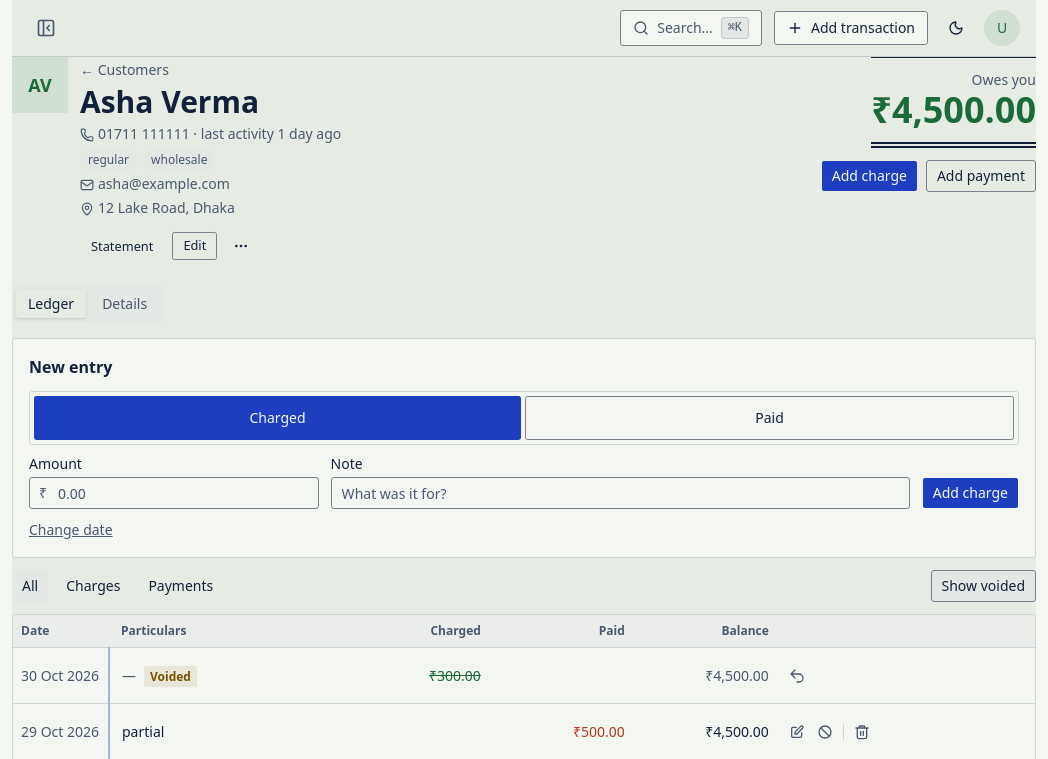
Test: S-31 customer detail v2 › ledger filters: All / Charges / Payments and Show voided (on by default)
The image size is (1048, 759).
expect the tab "Ledger" is shown: met, box top-left (16, 290), bottom-right (86, 318)
expect the text "₹300.00" is shown: met, box top-left (429, 666), bottom-right (481, 686)
Click the button "Charges".
click(93, 586)  # box top-left (56, 570), bottom-right (130, 602)
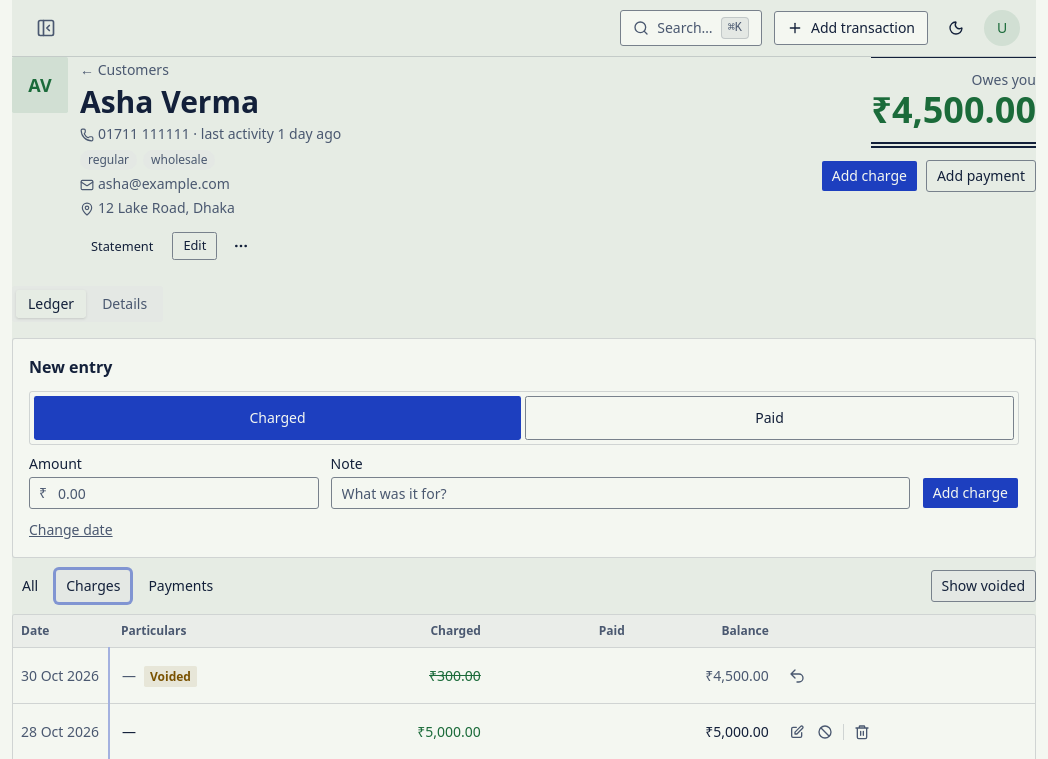
expect the text "₹300.00" is shown: met, box top-left (429, 666), bottom-right (481, 686)
expect the text "₹500.00" is gone: met
Note: Payments: just the payment.
Click the button "Payments".
click(181, 586)  # box top-left (138, 570), bottom-right (223, 602)
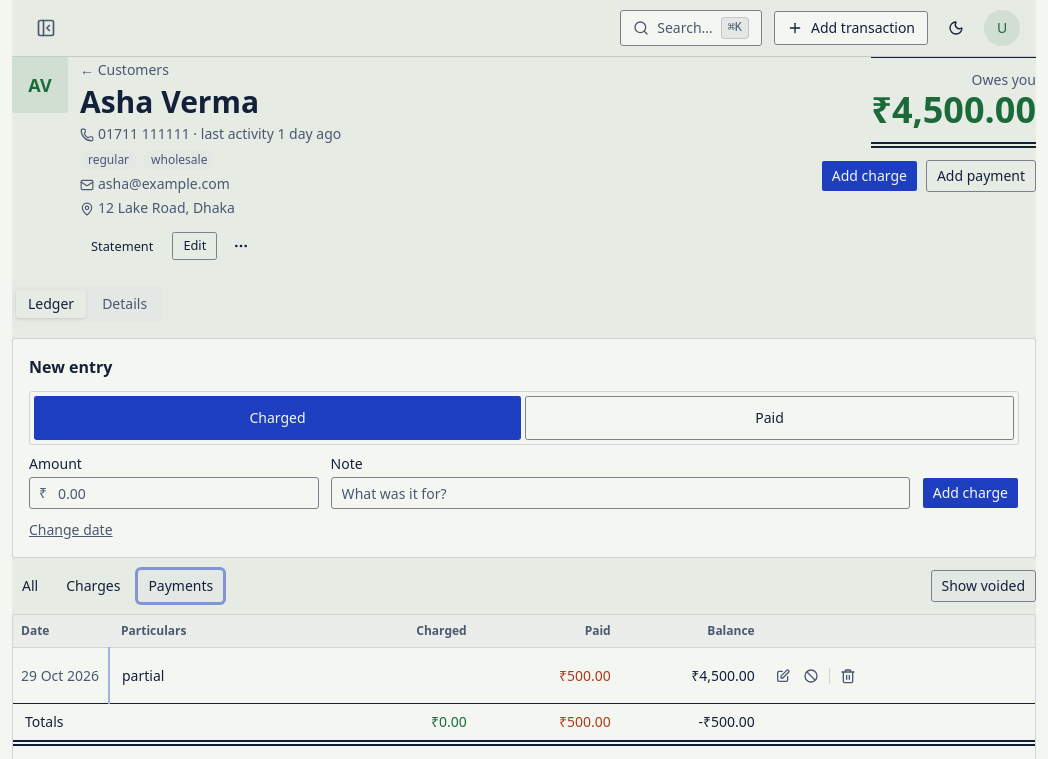
expect the text "₹5,000.00" is gone: met
Note: Back to All: everything again.
Click the button "All".
click(30, 586)  # box top-left (12, 570), bottom-right (48, 602)
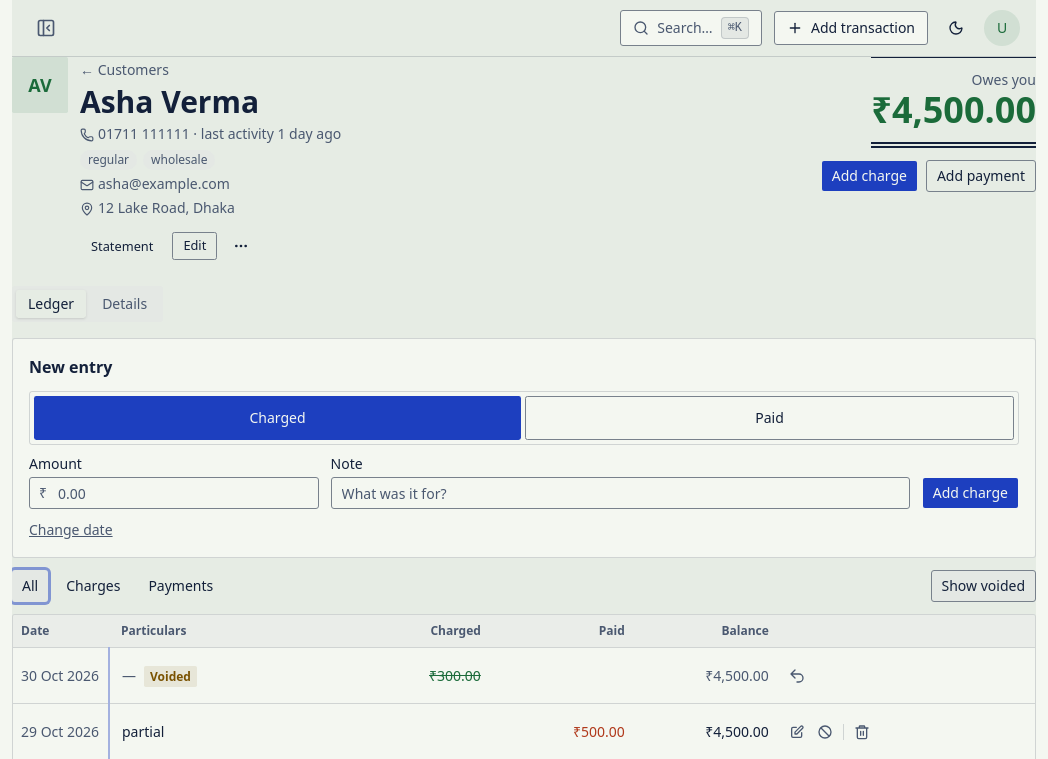
expect the text "₹300.00" is shown: met, box top-left (429, 666), bottom-right (481, 686)
Click the button "Show voided".
click(983, 586)  # box top-left (930, 570), bottom-right (1036, 602)
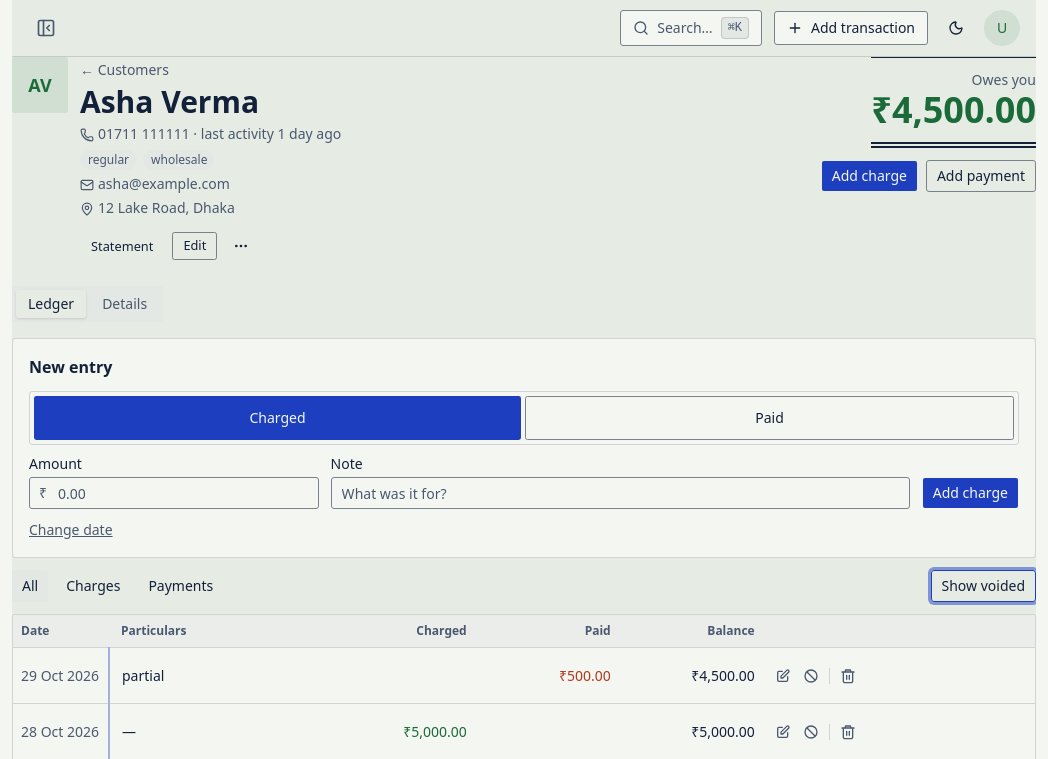
expect the text "₹300.00" is gone: met
Click the button "Show voided".
click(983, 586)  # box top-left (930, 570), bottom-right (1036, 602)
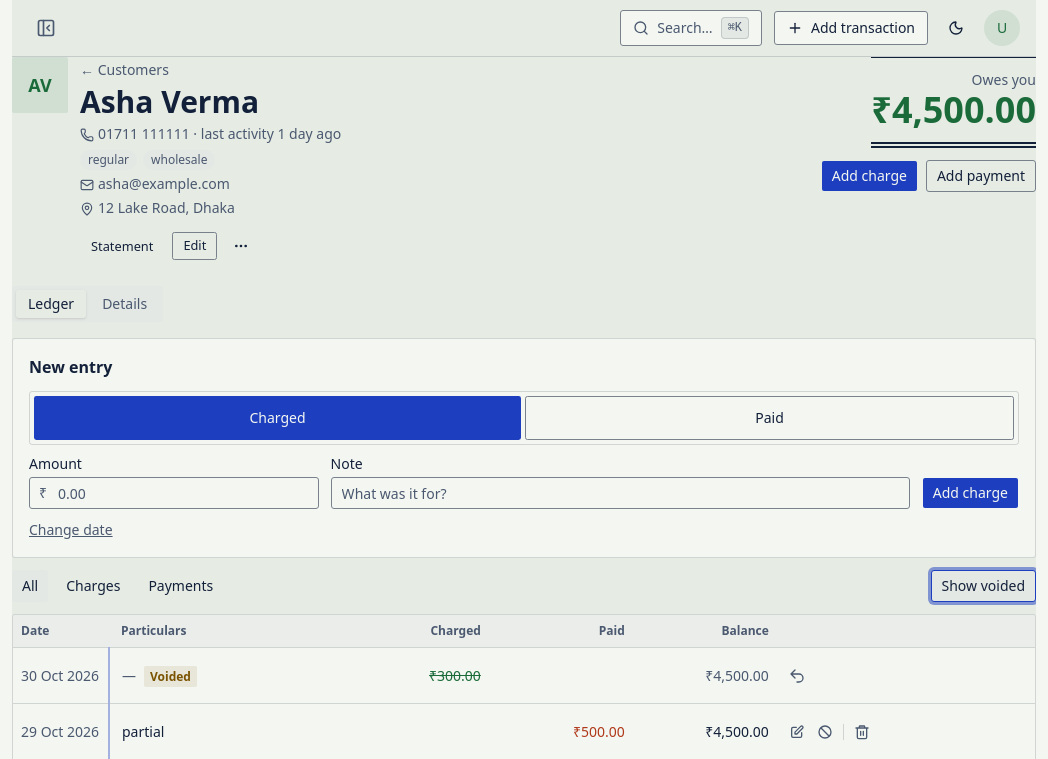
expect the text "₹300.00" is shown: met, box top-left (429, 666), bottom-right (481, 686)
